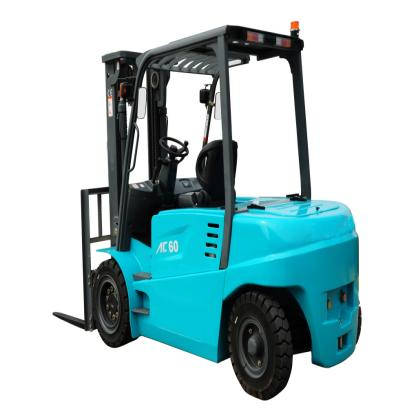forklift: (52, 20, 362, 401)
